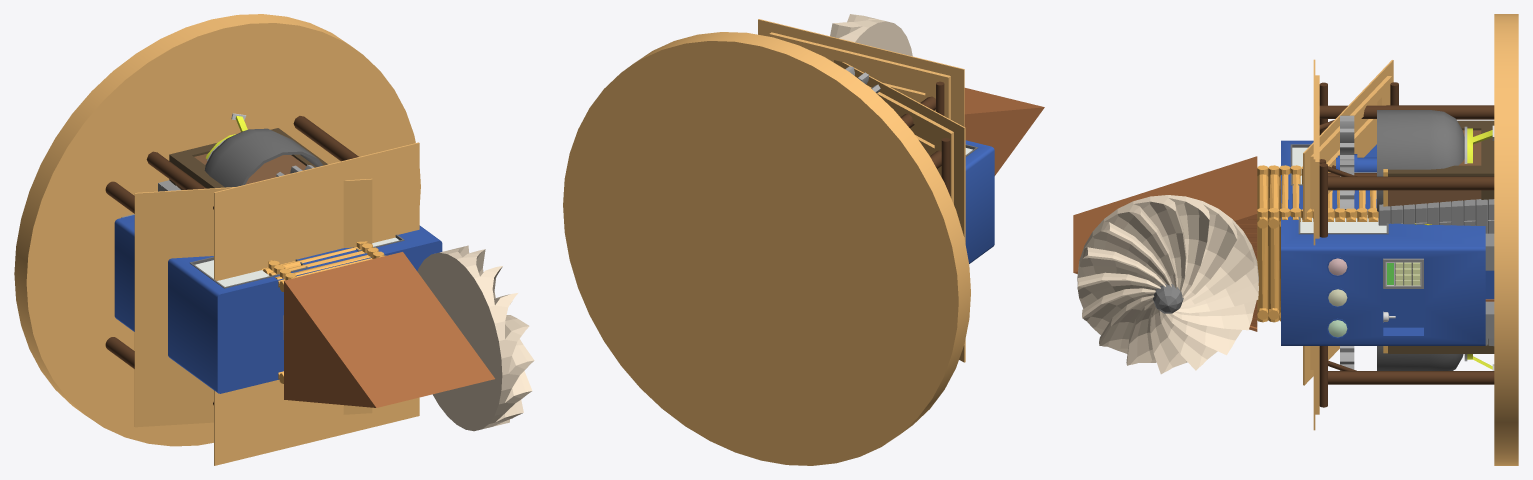
File: Small_bild.fbx
The picture shows the model from 3 angles, left to right: view 1: azimuth 30°, elevation 25°; view 2: azimuth 150°, elevation 25°; view 3: azimuth 270°, elevation 25°; orthographic projection.
Visible parts, largest first — view 1: Chest, Mill_LOD0, Jam_maker_LOD0, Juicer_LOD0, Bakery_LOD0; view 2: Chest, Mill_LOD0, Jam_maker_LOD0, Bakery_LOD0, Juicer_LOD0; view 3: Mill_LOD0, Juicer_LOD0, Jam_maker_LOD0, Chest, Bakery_LOD0.
Boxes of the visible parts, x1,y1,x2,y2 form: Chest: (14,14,420,446); Mill_LOD0: (14,14,534,446); Jam_maker_LOD0: (146,113,419,465); Juicer_LOD0: (114,214,442,393); Bakery_LOD0: (105,178,372,427); Chest: (563,32,970,465); Mill_LOD0: (563,14,1044,250); Jam_maker_LOD0: (758,19,964,127); Bakery_LOD0: (834,60,965,362); Juicer_LOD0: (965,140,994,263); Mill_LOD0: (1073,14,1518,465); Juicer_LOD0: (1281,140,1494,345); Jam_maker_LOD0: (1313,59,1494,430); Chest: (1383,14,1518,465); Bakery_LOD0: (1303,60,1494,385).
Size of the model in its own units: 56 by 56 by 55.09.
